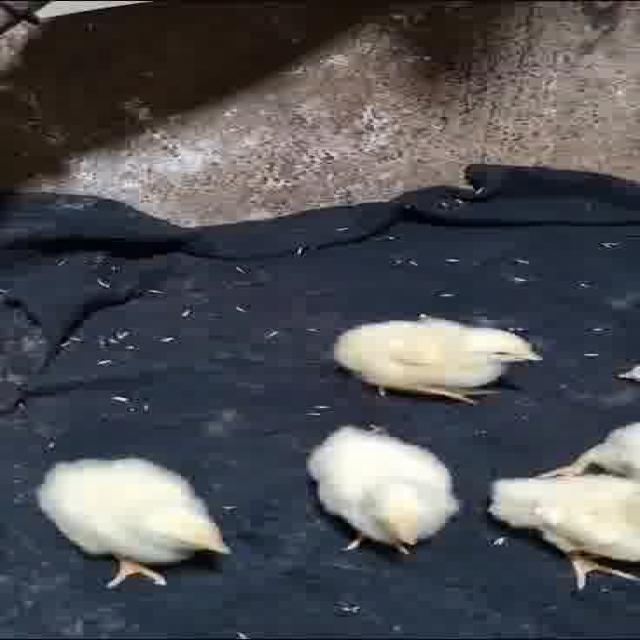poussin: (34, 450, 240, 595), (500, 418, 640, 609), (302, 425, 466, 560), (324, 315, 540, 410)
